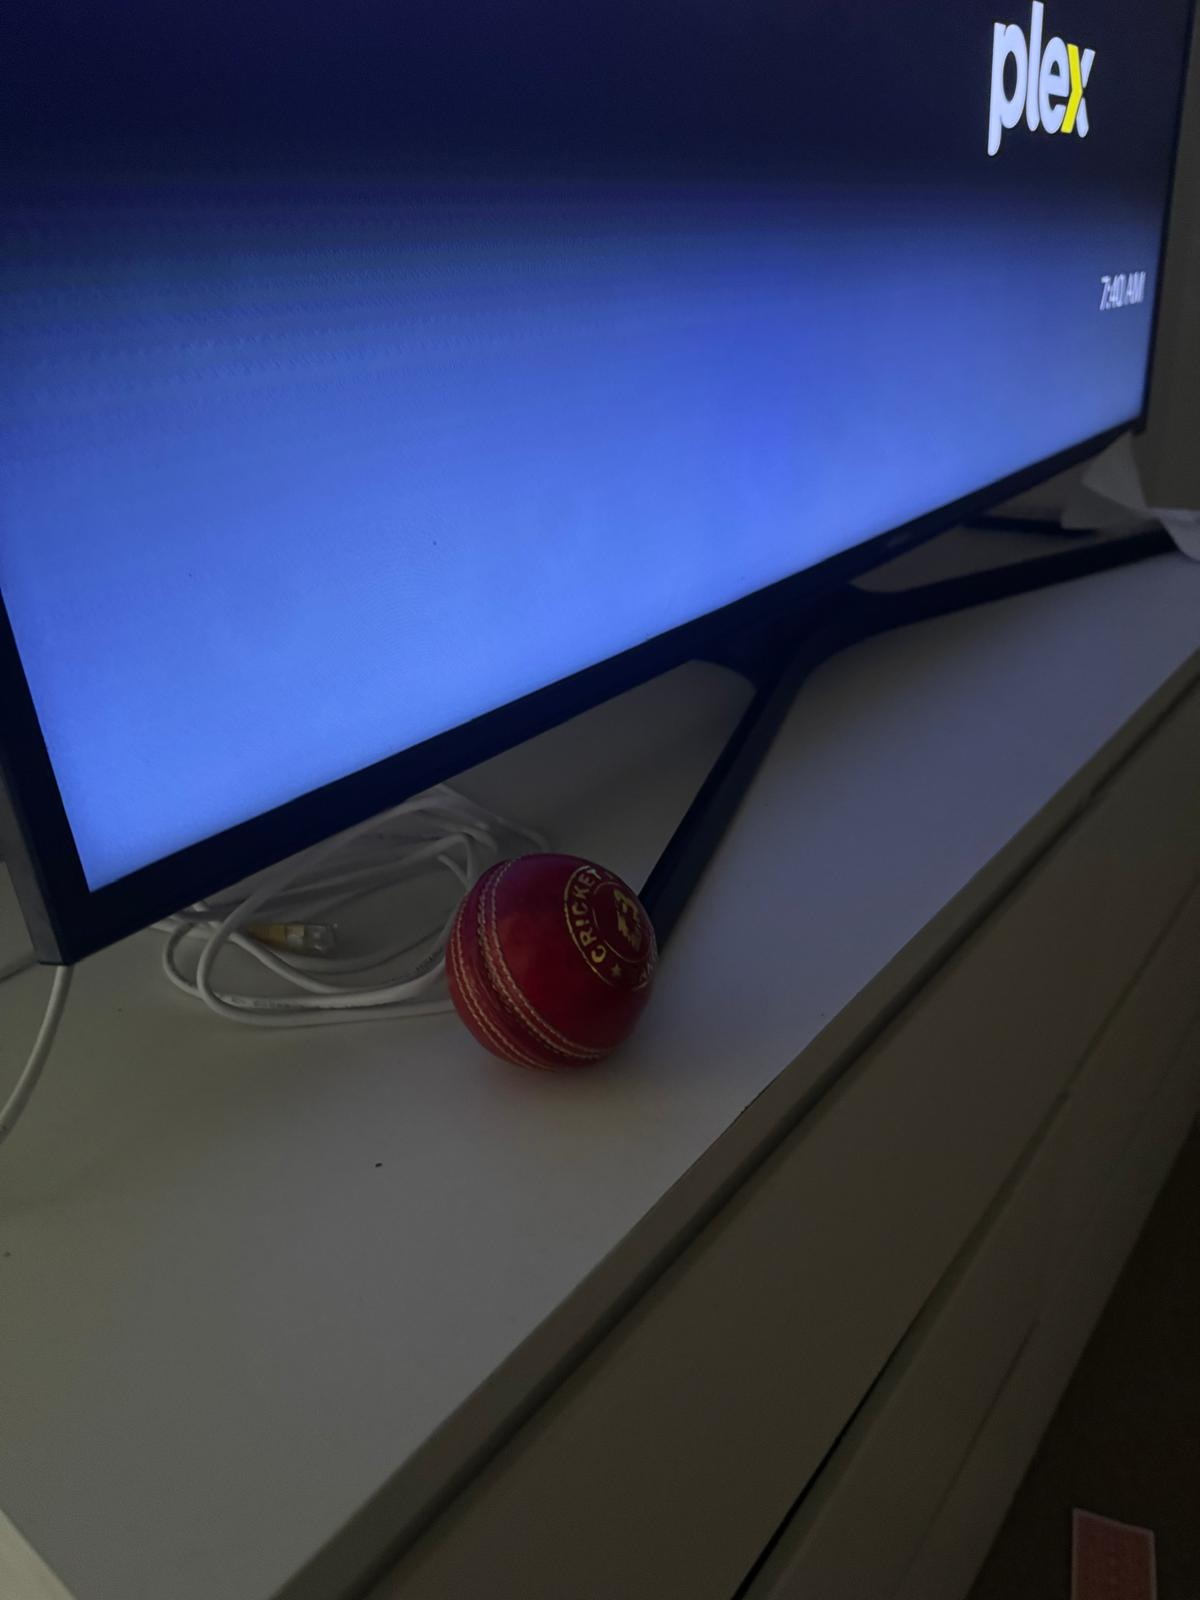Red_Ball: (412, 838, 695, 1086)
